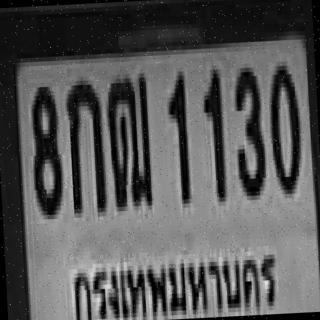A01: (64, 76, 106, 210)
A18: (105, 69, 152, 207)
N00: (267, 61, 302, 190)
N01: (200, 65, 225, 198), (165, 67, 189, 200)
N03: (232, 63, 265, 196)
N08: (28, 82, 62, 216)
P04: (65, 245, 284, 320)
